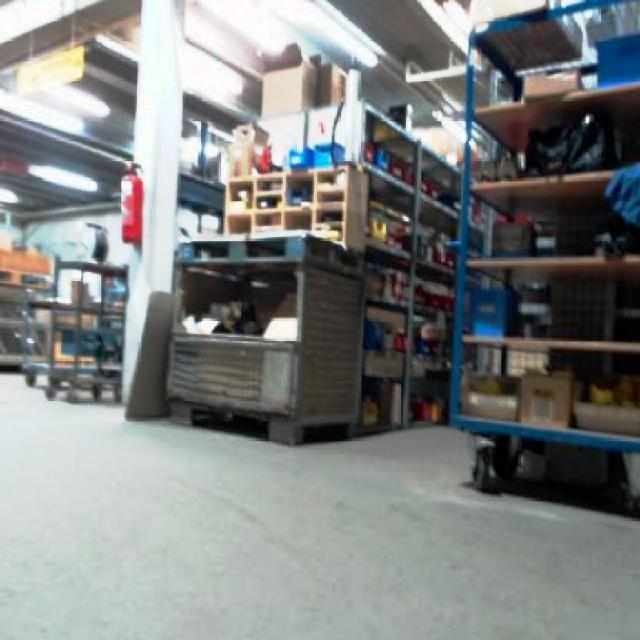ground: (0, 365, 638, 638)
pallet: (449, 0, 638, 540), (223, 97, 463, 432), (163, 229, 368, 445), (349, 97, 462, 431), (25, 257, 126, 403), (223, 162, 362, 248), (0, 237, 52, 371)
